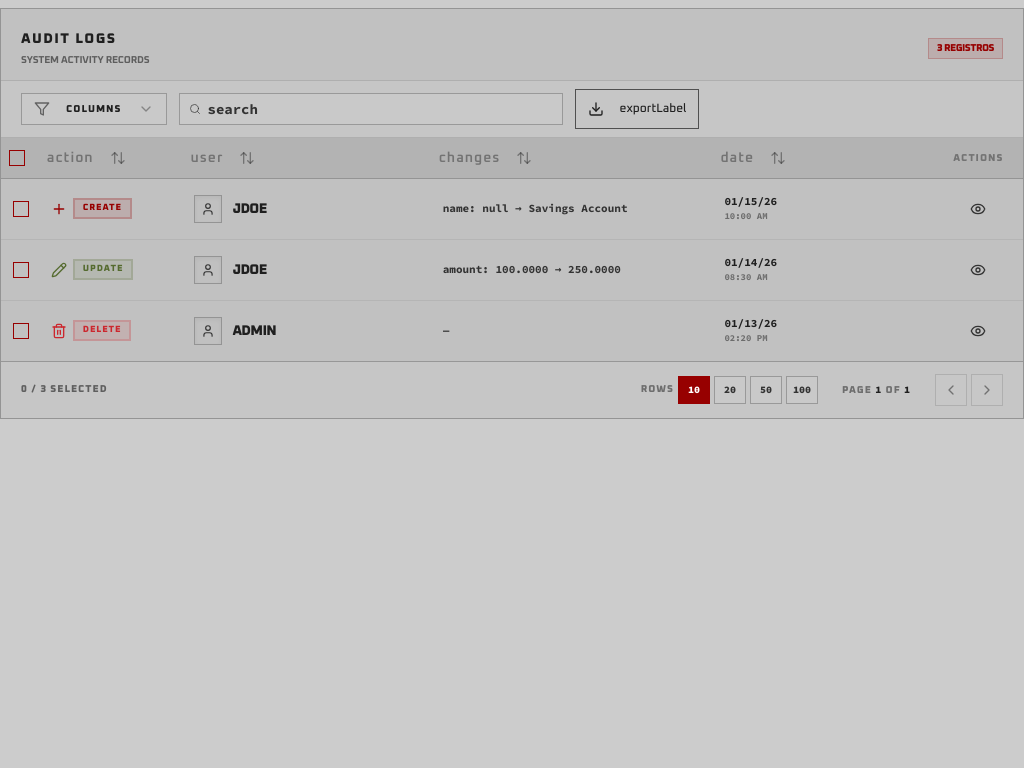
AuditLogDataTable › should open the slide-over when view button is clicked
This screenshot has width=1024, height=768.
Click the button named "viewDetails" in the row of "CREATE".
click(978, 208)  # box [958, 188, 998, 228]
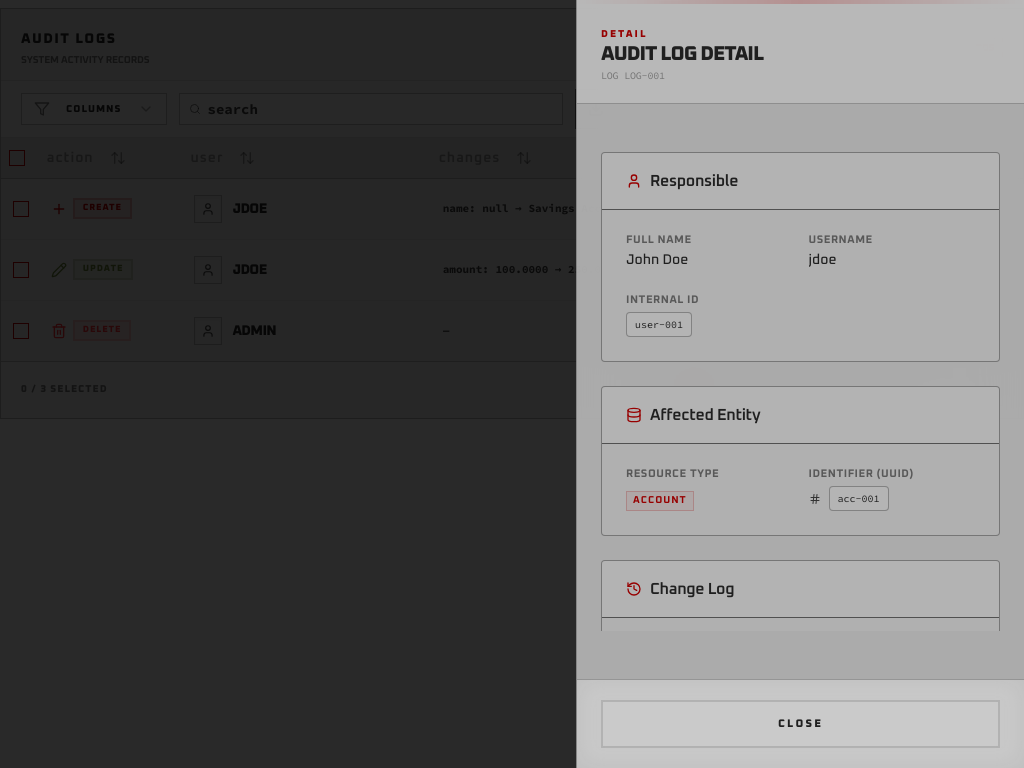
Now the heading "Audit Log Detail" is shown, box [601, 44, 763, 64]
